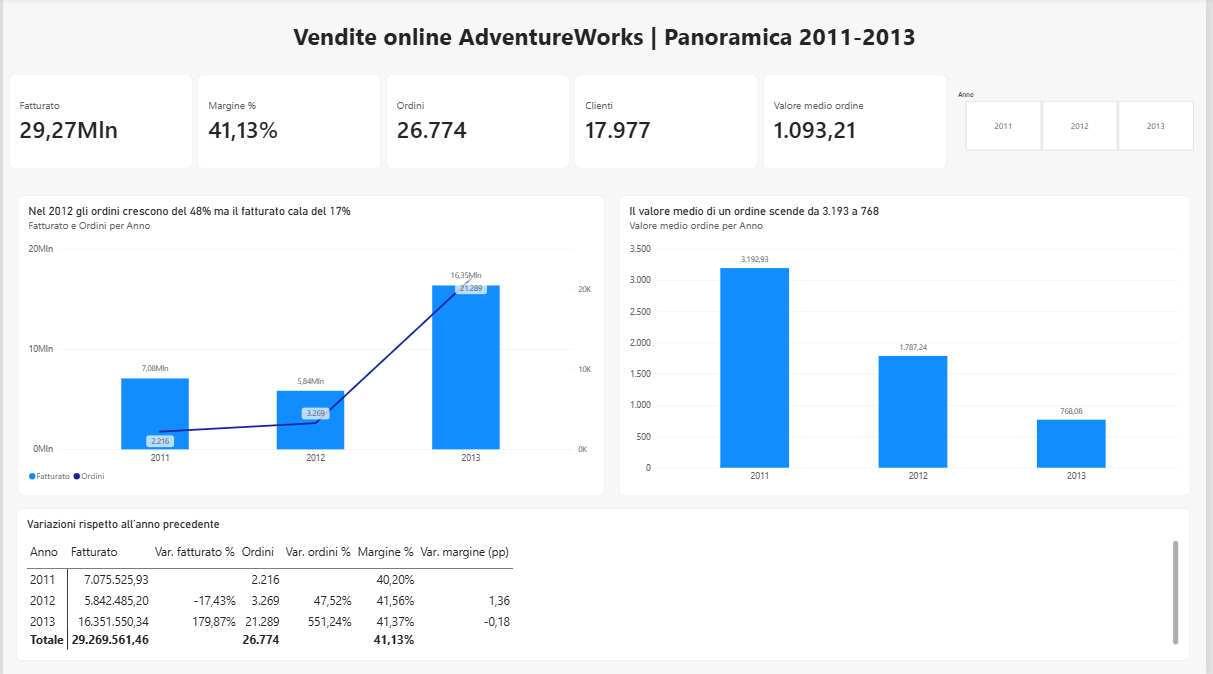

What the dashboard file says about the page in this screenshot:
{"tool":"powerbi","page":{"name":"Panoramica","canvas":[1920,1080],"ordinal":0},"visuals":[{"type":"textbox","box":[23.6,30.6,1873.6,66],"z":0},{"type":"slicer","fields":{"Values":["Calendario.Anno"]},"box":[1517.8,146.1,403,96.6],"z":1000},{"type":"cardVisual","fields":{"Data":["_Misure.Fatturato","_Misure.Margine %","_Misure.Ordini","_Misure.Clienti","_Misure.Valore medio ordine"]},"box":[10,120,1497.5,150],"z":2000},{"type":"lineClusteredColumnComboChart","title":"Nel 2012 gli ordini crescono del 48% ma il fatturato cala del 17%","fields":{"Category":["Calendario.Anno"],"Y":["_Misure.Fatturato"],"Y2":["_Misure.Ordini"]},"box":[24,312,936,480],"z":3000},{"type":"clusteredColumnChart","title":"Il valore medio di un ordine scende da 3.193 a 768","fields":{"Category":["Calendario.Anno"],"Y":["_Misure.Valore medio ordine"]},"box":[984,312,912,480],"z":4000},{"type":"pivotTable","title":"Variazioni rispetto all’anno precedente","fields":{"Rows":["Calendario.Anno"],"Values":["_Misure.Fatturato","_Misure.Var. fatturato %","_Misure.Ordini","_Misure.Var. ordini %","_Misure.Margine %","_Misure.Var. margine (pp)"]},"box":[21.4,811.9,1873.8,269],"z":5000}]}

Visuals, with their boxes in screenshot pixels (x1, y1, x2, y2), scaled from the page's 1920x1080 canvas onto the 1213x674 screenshot:
textbox: [15, 19, 1199, 60]
slicer - Calendario.Anno: [959, 91, 1212, 151]
cardVisual - _Misure.Fatturato x _Misure.Margine %: [6, 75, 952, 168]
"Nel 2012 gli ordini crescono del 48% ma il fatturato cala del 17%" lineClusteredColumnComboChart: [15, 195, 606, 494]
"Il valore medio di un ordine scende da 3.193 a 768" clusteredColumnChart: [622, 195, 1198, 494]
"Variazioni rispetto all’anno precedente" pivotTable: [14, 507, 1197, 673]
